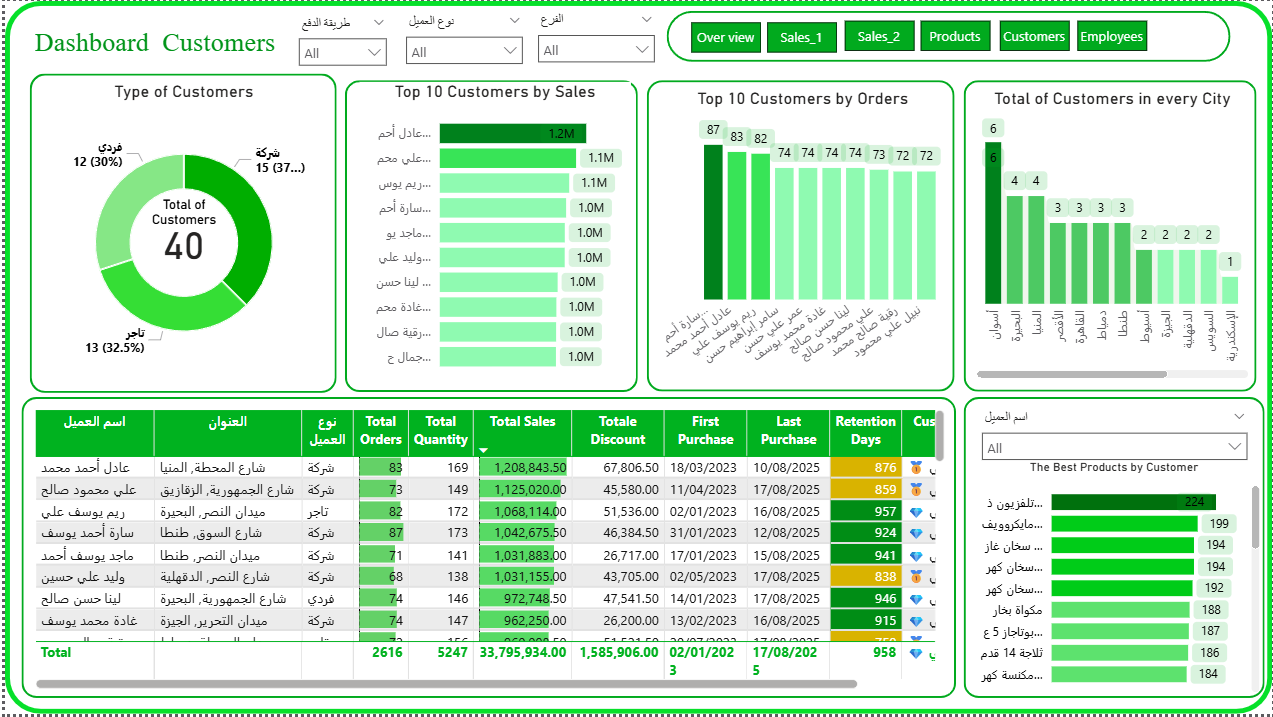

This screenshot's page, from the dashboard's own definition file:
{"tool":"powerbi","page":{"name":"Customers ","canvas":[1280,720],"ordinal":4},"visuals":[{"type":"shape","box":[0,0,1280,720],"z":0},{"type":"group","id":"g1","title":"Group 2","box":[968,400,304,304],"z":0,"group":"g8"},{"type":"textbox","box":[24.8,22.3,262.6,42.1],"z":1000},{"type":"shape","box":[968,400,304,304],"z":1000,"group":"g7"},{"type":"slicer","fields":{"Values":["customers.اسم العميل"]},"box":[976,408,288,56],"z":1000,"group":"g8"},{"type":"shape","box":[668.6,9.5,569.5,51.4],"z":2000},{"type":"actionButton","box":[1004.8,20,70,30],"z":3000},{"type":"shape","box":[342.5,80,296,315],"z":3000,"group":"g6"},{"type":"shape","box":[647.5,80,310.8,314.5],"z":3000,"group":"g5"},{"type":"shape","box":[967.5,80,295.8,314.8],"z":3000,"group":"g3"},{"type":"shape","box":[16,400,944,304],"z":3000,"group":"g2"},{"type":"slicer","fields":{"Values":["sales.طريقة الدفع"]},"box":[287.4,9.9,109,61.9],"z":4000},{"type":"shape","box":[25,72.5,310,322.5],"z":4000,"group":"g4"},{"type":"actionButton","box":[693.8,21.2,70,30],"z":5000},{"type":"actionButton","box":[770,21.2,70,30],"z":6000},{"type":"barChart","title":"Top 10 Customers by Sales","fields":{"Category":["sales.اسم العميل"],"Y":["measures (2).Total Sales"]},"box":[356.8,81.3,273.8,303],"z":6000,"group":"g6"},{"type":"columnChart","title":"Top 10 Customers by Orders","fields":{"Category":["sales.اسم العميل"],"Y":["measures (2).Total Orders"]},"box":[655.9,88.3,298.5,297.3],"z":6000,"group":"g5"},{"type":"columnChart","title":"Total of Customers in every City","fields":{"Category":["customers.المحافظة"],"Y":["measures (2).Num Customer"]},"box":[975.5,88.3,284.1,297.6],"z":6000,"group":"g3"},{"type":"donutChart","title":"Type of Customers ","fields":{"Y":["measures (2).Num Customer"],"Category":["customers.نوع العميل"]},"box":[34,81.3,295,305.7],"z":6003,"group":"g4"},{"type":"slicer","fields":{"Values":["customers.نوع العميل"]},"box":[395.6,8.9,137.8,62.2],"z":7000},{"type":"slicer","fields":{"Values":["sales.الفرع"]},"box":[527.8,6.7,137.8,57.8],"z":8000},{"type":"actionButton","box":[925.2,20,70,30],"z":9000},{"type":"group","id":"g2","title":"Group 8","box":[16,400,944,304],"z":10000},{"type":"group","id":"g3","title":"Group 7","box":[967.5,80,295,305],"z":11000},{"type":"group","id":"g4","title":"Group 5","box":[25,72.5,310,322.5],"z":12000},{"type":"card","title":"Total of Customers ","fields":{"Values":["measures (2).Num Customer"]},"box":[137.5,197.5,85,82.5],"z":13000},{"type":"group","id":"g5","title":"Group 7","box":[647.5,80,312.5,305],"z":14000},{"type":"group","id":"g6","title":"Group 7","box":[342.5,80,290,315],"z":15000},{"type":"actionButton","box":[1082.9,20,70,30],"z":16000},{"type":"actionButton","box":[847.6,20.5,70,30],"z":17000},{"type":"group","id":"g7","title":"Group 1","box":[968,400,304,304],"z":17000,"group":"g1"},{"type":"group","id":"g8","title":"Group 3","box":[968,400,304,304],"z":18000},{"type":"barChart","title":"The Best Products by Customer ","fields":{"Category":["products.اسم المنتج"],"Y":["measures (2).Total Quantity"]},"box":[968,464,304,240],"z":18500,"group":"g1"},{"type":"tableEx","fields":{"Values":["customers.اسم العميل","customers.العنوان","customers.نوع العميل","measures (2).Total Orders","measures (2).Total Quantity","measures (2).Total Sales","measures (2).Totale Discount","measures (2).First Purchase","measures (2).Last Purchase","measures (2).Retention Days","measures (2).Customer Class"]},"box":[23.7,408.6,928.5,291.1],"z":19000,"group":"g2"}]}

Visuals, with their boxes in screenshot pixels (x1, y1, x2, y2), scaled from the page's 1280x720 canvas onto the 1273x717 screenshot:
shape: <box>0,0,1272,716</box>
"Group 2" group: <box>963,398,1265,701</box>
textbox: <box>25,22,286,64</box>
shape: <box>963,398,1265,701</box>
slicer - customers.اسم العميل: <box>971,406,1257,462</box>
shape: <box>665,9,1231,61</box>
actionButton: <box>999,20,1069,50</box>
shape: <box>341,80,635,393</box>
shape: <box>644,80,953,393</box>
shape: <box>962,80,1256,393</box>
shape: <box>16,398,955,701</box>
slicer - sales.طريقة الدفع: <box>286,10,394,72</box>
shape: <box>25,72,333,393</box>
actionButton: <box>690,21,760,51</box>
actionButton: <box>766,21,835,51</box>
"Top 10 Customers by Sales" barChart: <box>355,81,627,383</box>
"Top 10 Customers by Orders" columnChart: <box>652,88,949,384</box>
"Total of Customers in every City" columnChart: <box>970,88,1253,384</box>
"Type of Customers " donutChart: <box>34,81,327,385</box>
slicer - customers.نوع العميل: <box>393,9,530,71</box>
slicer - sales.الفرع: <box>525,7,662,64</box>
actionButton: <box>920,20,990,50</box>
"Group 8" group: <box>16,398,955,701</box>
"Group 7" group: <box>962,80,1256,383</box>
"Group 5" group: <box>25,72,333,393</box>
"Total of Customers " card: <box>137,197,221,279</box>
"Group 7" group: <box>644,80,955,383</box>
"Group 7" group: <box>341,80,629,393</box>
actionButton: <box>1077,20,1147,50</box>
actionButton: <box>843,20,913,50</box>
"Group 1" group: <box>963,398,1265,701</box>
"Group 3" group: <box>963,398,1265,701</box>
"The Best Products by Customer " barChart: <box>963,462,1265,701</box>
tableEx - customers.اسم العميل x customers.العنوان: <box>24,407,947,697</box>
